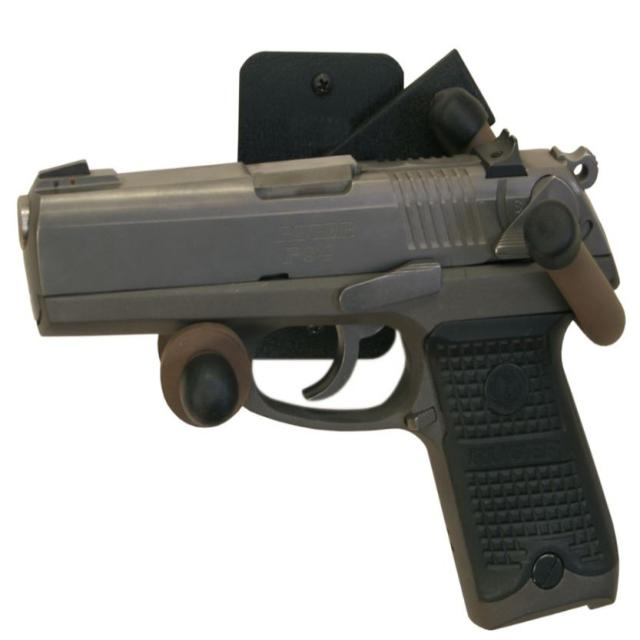HandGun: (16, 152, 619, 633)
